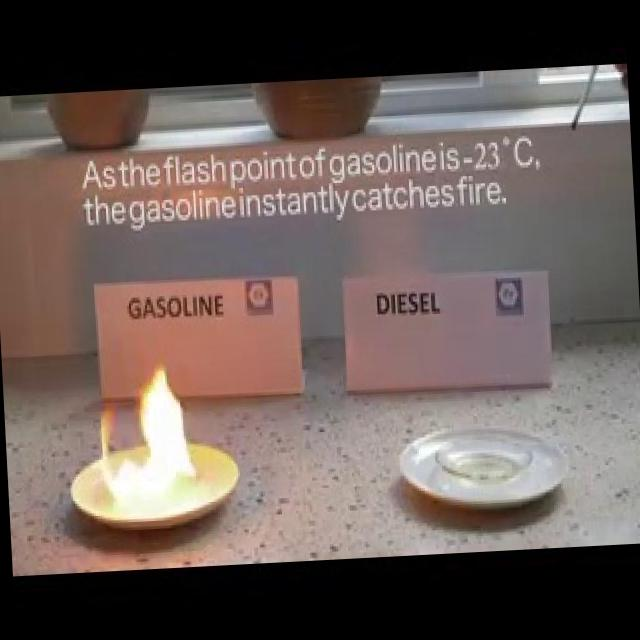Fire: (77, 363, 213, 524)
